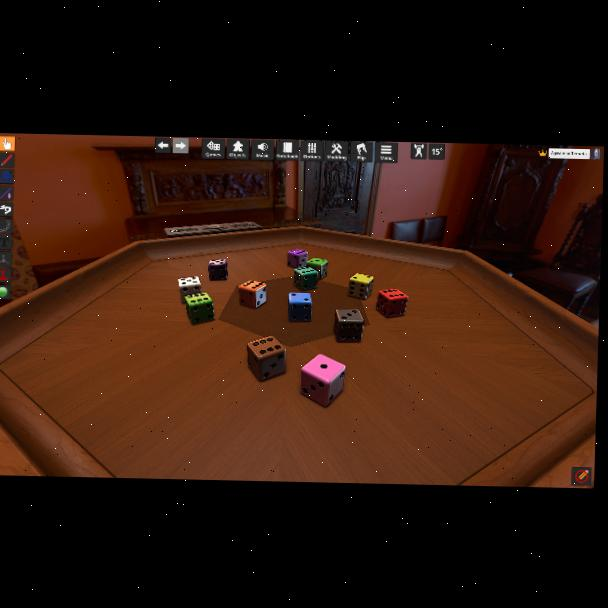d6: (303, 353, 347, 406), (247, 337, 288, 384), (184, 292, 216, 325), (332, 309, 363, 343), (376, 288, 407, 318), (237, 280, 266, 310), (348, 273, 374, 301), (178, 276, 203, 305), (287, 292, 311, 320), (293, 266, 317, 292), (305, 257, 327, 281), (207, 258, 227, 282), (286, 249, 307, 269)
